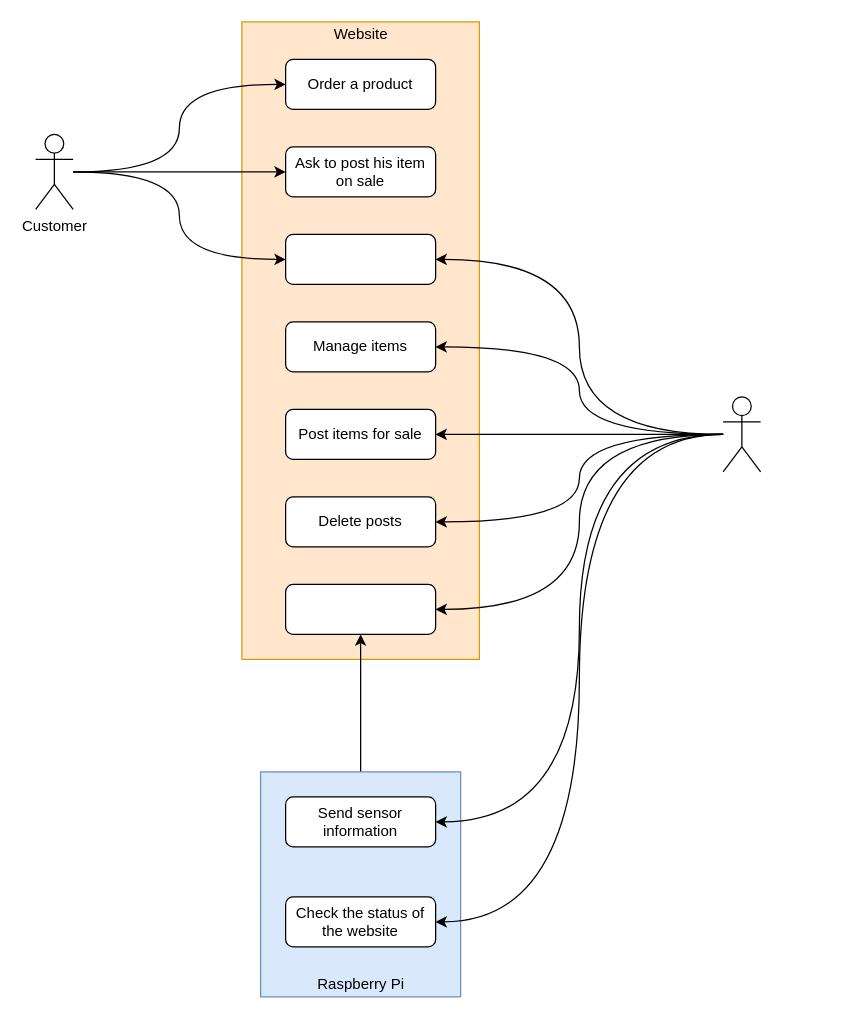
Image size: 843x1019. Some labels were removed from this diagram. The box of each missing label's shape, as (x1, y1, x2, y2) in pixels:
Check sensor information: (284, 583, 436, 634)
Employee/Administrator: (722, 396, 761, 472)
Login: (284, 233, 436, 284)
